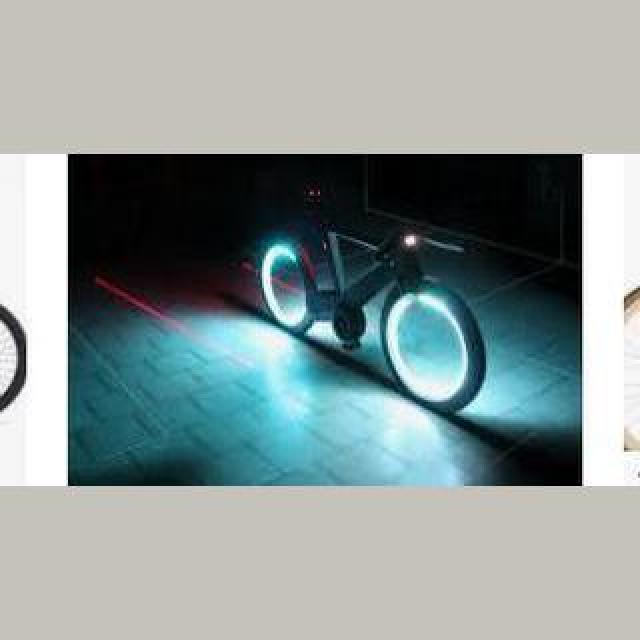Person: (256, 226, 494, 410)
